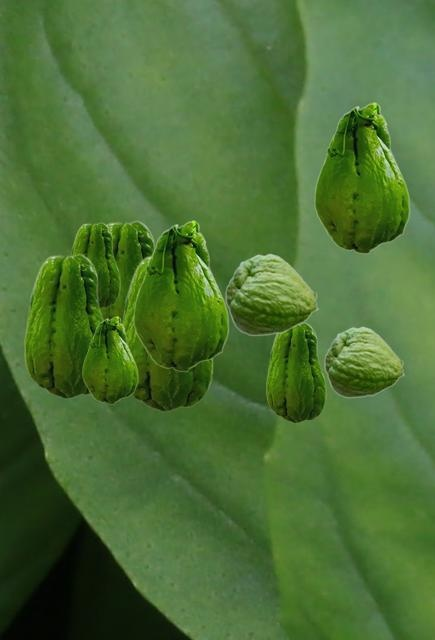sayote: (133, 220, 228, 371), (314, 102, 409, 253), (121, 255, 212, 411), (24, 253, 105, 398), (225, 253, 318, 335), (266, 322, 325, 422), (324, 326, 404, 397), (101, 220, 154, 318), (82, 316, 137, 403), (71, 222, 119, 308)
